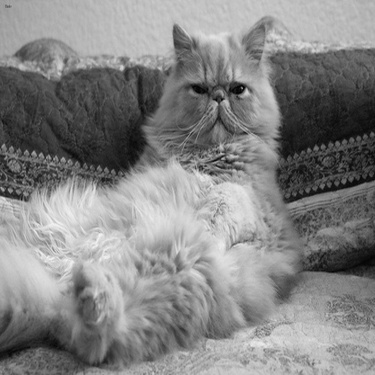cat: (2, 15, 300, 367)
